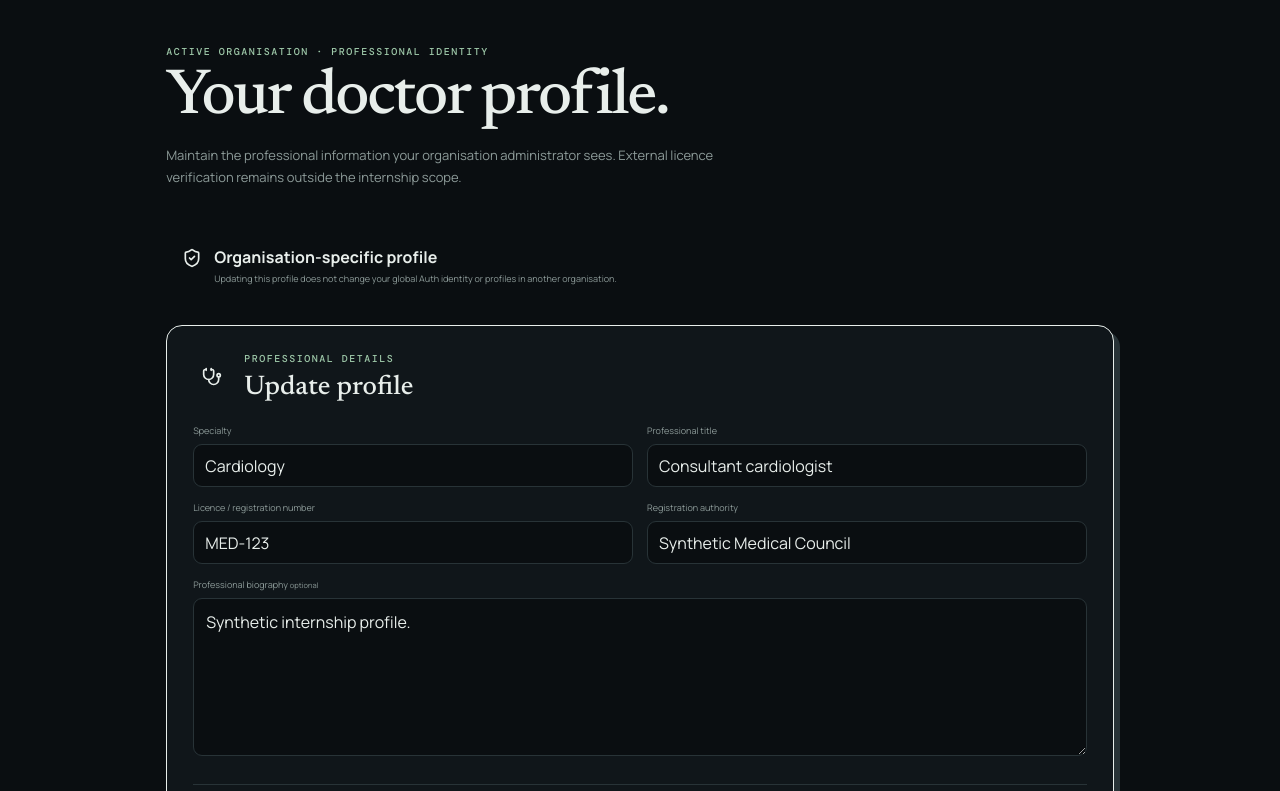
Test case: Doctor professional profile page › loads the active-organisation profile and saves with its resource version
Expected: the field showing "Cardiology" is shown, [193,444,633,487]
Replace the text in the field labelled "Professional title" with "Senior consultant cardiologist". click: (867, 466)
box: [647,444,1087,487]
(page scrolled)
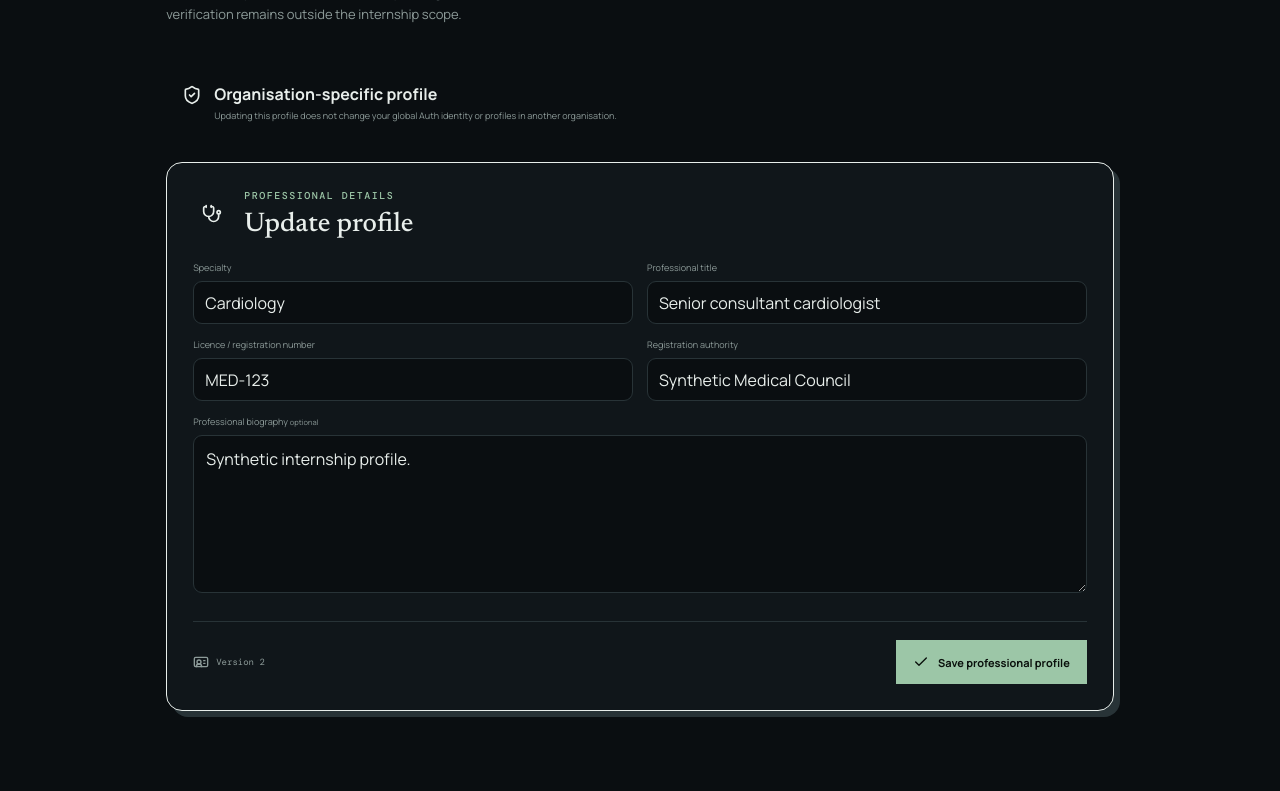
Click the button "Save professional profile". click: (991, 662)
box: [896,640,1087,684]
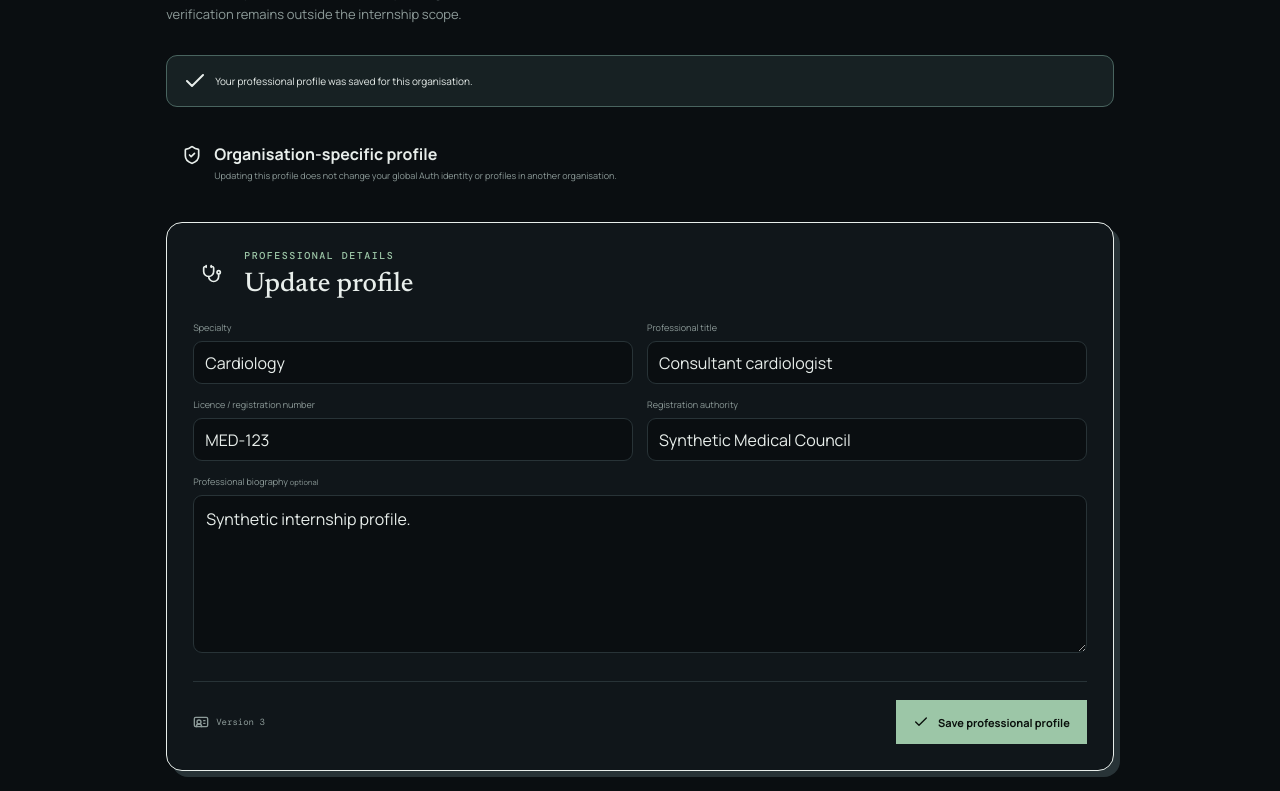
Now the text "Your professional profile was saved for this organisation." is shown, box [166,55,1114,107]
